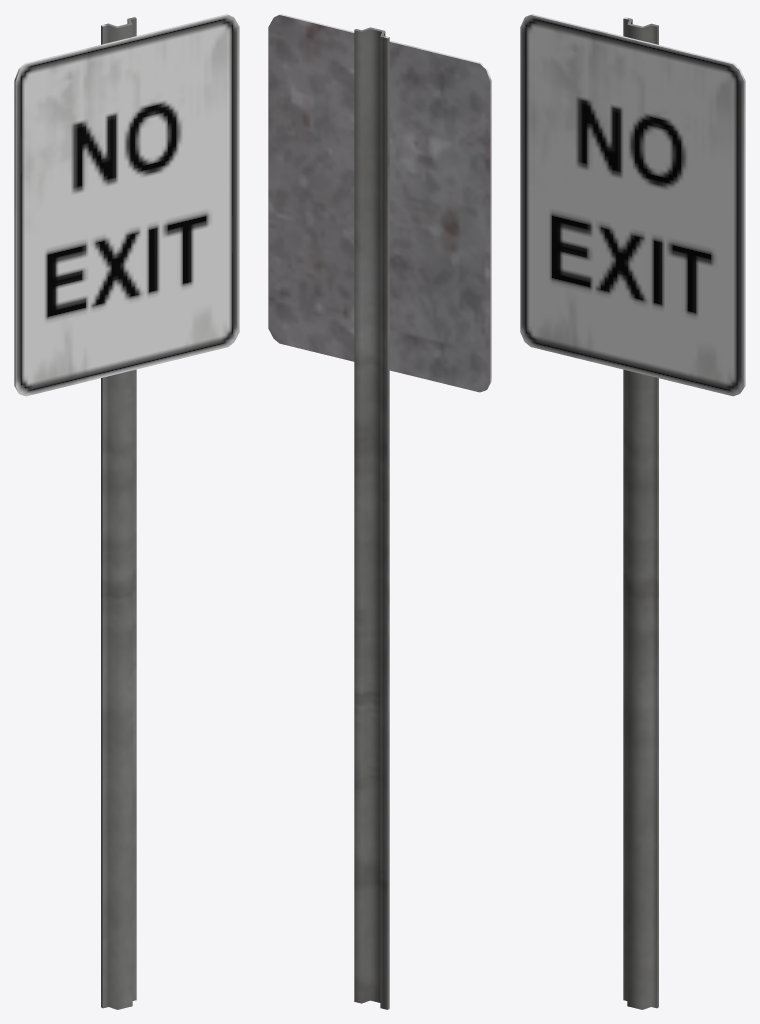
File: Sign_NoExit.fbx
The picture shows the model from 3 angles, left to right: view 1: azimuth 30°, elevation 25°; view 2: azimuth 150°, elevation 25°; view 3: azimuth 330°, elevation 25°; orthographic projection.
Visible parts, largest first — view 1: Sign_NoExit; view 2: Sign_NoExit; view 3: Sign_NoExit.
Boxes of the visible parts, <box> form: Sign_NoExit: <box>14,14,239,1009</box>; Sign_NoExit: <box>268,14,491,1009</box>; Sign_NoExit: <box>520,14,745,1009</box>.
Size of the model in its own units: 55.42 by 232 by 4.18.
